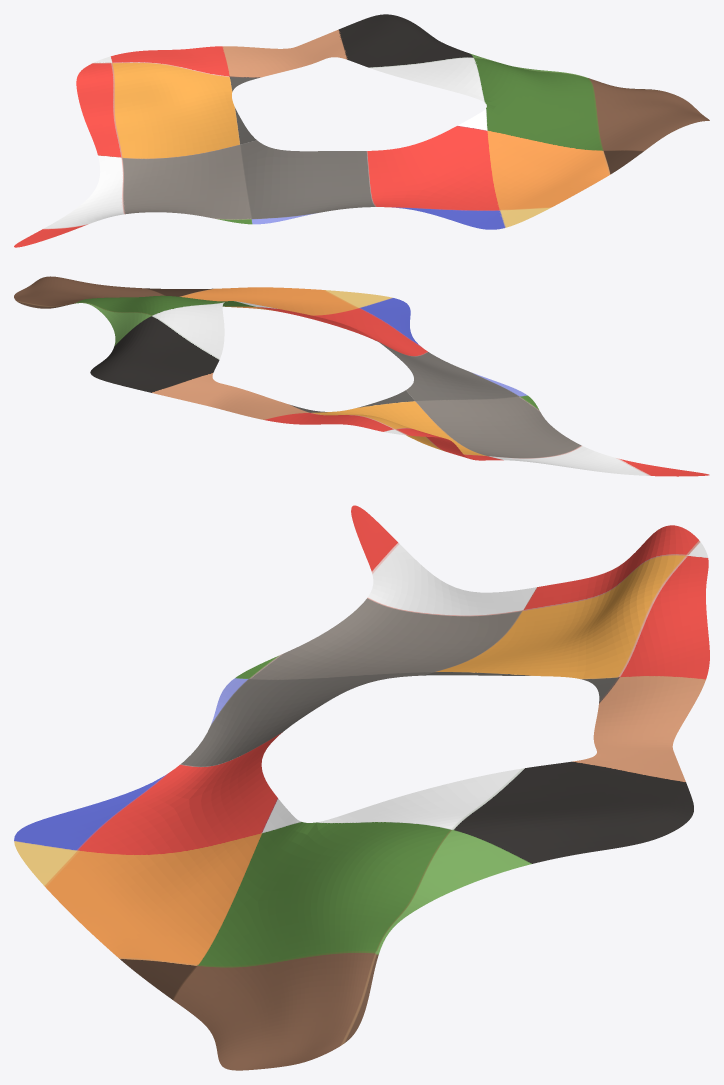
The model's file is lvl2grasswestsideupper.fbx.
3 renders of one model, top to bottom at view 1: azimuth 30°, elevation 25°; view 2: azimuth 150°, elevation 25°; view 3: azimuth 270°, elevation 25°, orthographic. The views are drawn at different scales.
Visible parts, largest first — view 1: westsideuppergrass; view 2: westsideuppergrass; view 3: westsideuppergrass.
Part boxes in pixels (x1,y1,x2,y2): westsideuppergrass: (14,14,709,247); westsideuppergrass: (14,276,709,476); westsideuppergrass: (14,505,709,1070).
Bounding box in the file's own units: 44.8 × 4.8 × 23.84.
